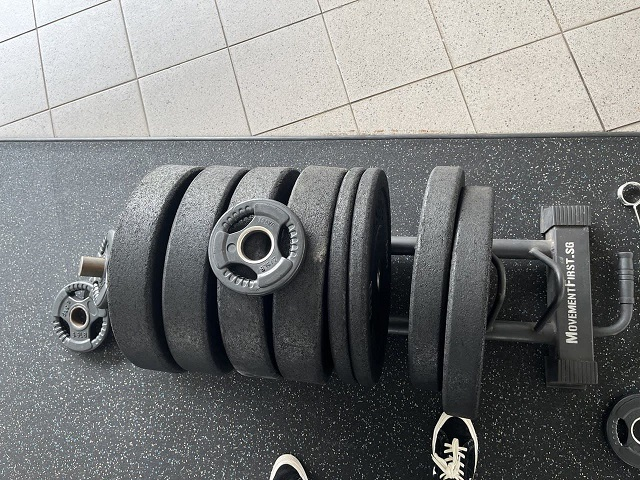weights: (102, 162, 182, 373), (324, 167, 392, 393), (403, 164, 464, 396), (203, 198, 303, 298), (441, 184, 482, 422), (51, 281, 107, 352), (603, 394, 640, 471)
